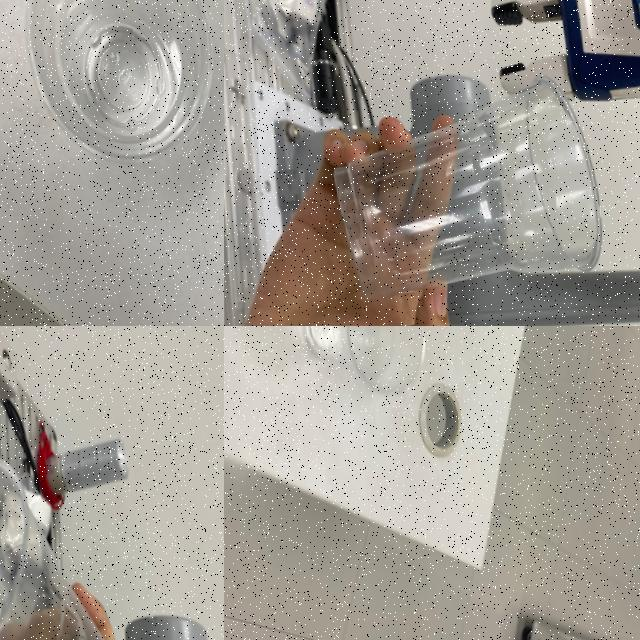glass: (313, 55, 616, 316), (0, 0, 224, 176), (0, 429, 139, 640), (285, 326, 429, 412)
